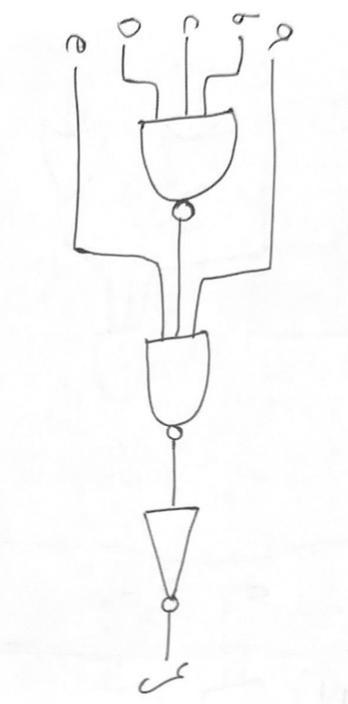NAND: (123, 107, 256, 232), (126, 324, 232, 447)
NOT: (123, 499, 215, 616)
